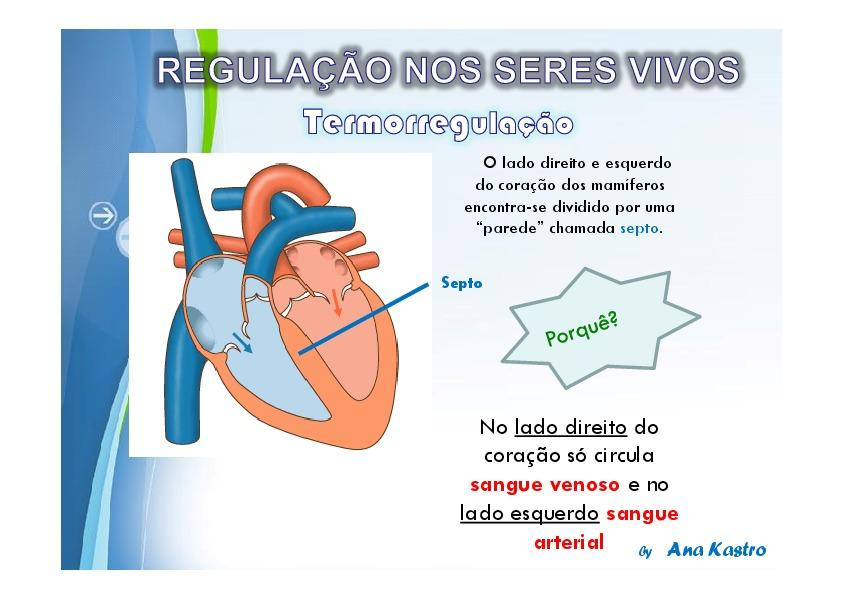paragraph: (436, 147, 826, 572)
title: (144, 33, 771, 141)
